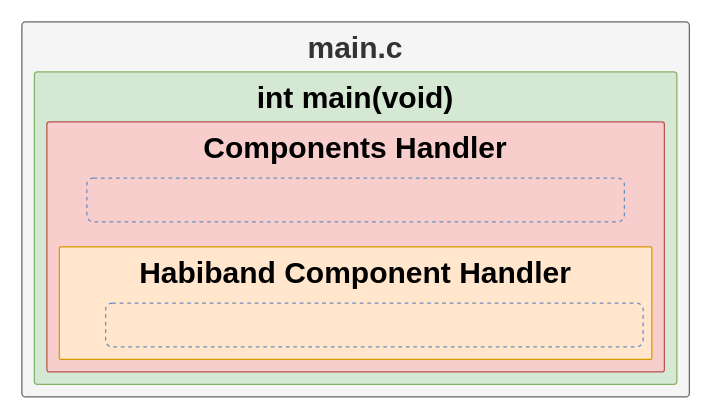
This 711x419 diagram has some shape labels left out. The centre of each missing label's shape, as x and y in pixels:
"void ComponentsHandler()" belongs at [355,199].
"void HabibandComponentHandler()" belongs at [373,324].
